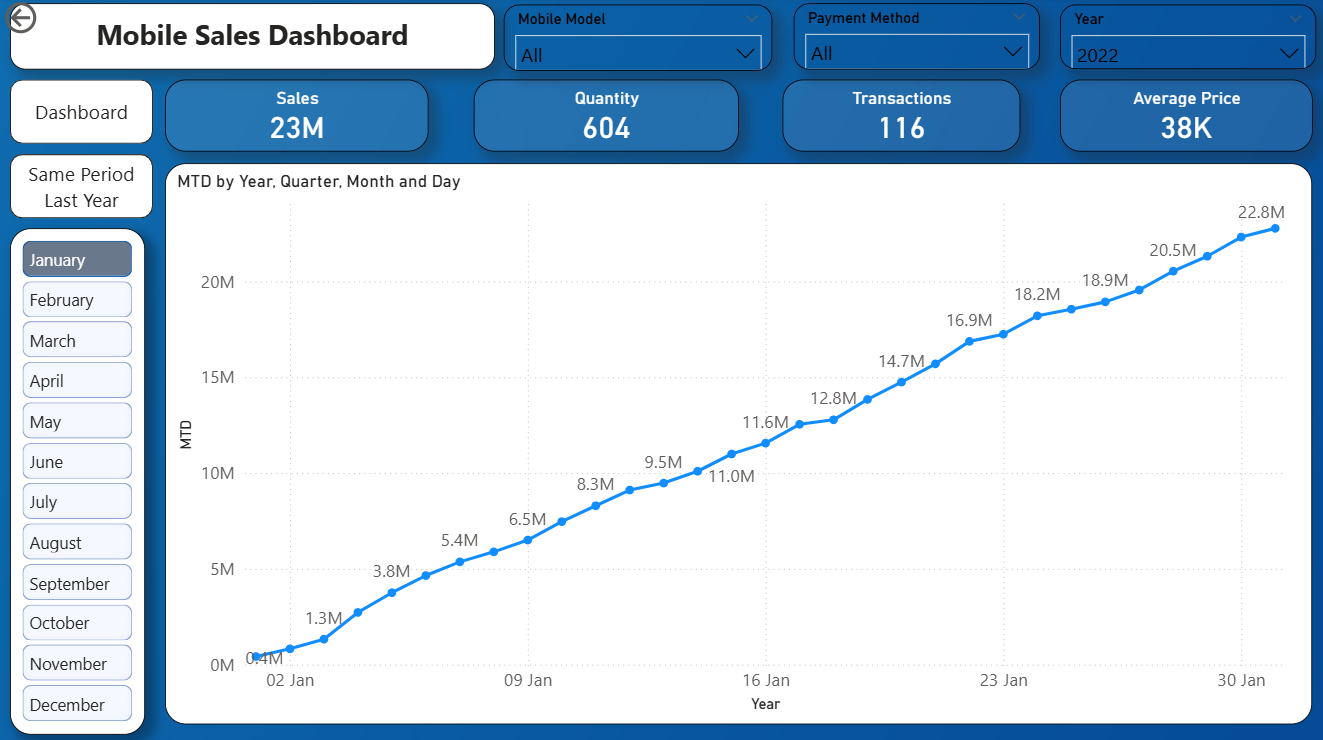

Layout of this report page (visuals, bound fields, positions):
{"tool":"powerbi","page":{"name":"MTD Report","canvas":[1280,720],"ordinal":1},"visuals":[{"type":"card","title":" Sales","fields":{"Values":["Sales_Data.Total_Sales"]},"box":[159.3,79.6,254.6,70],"z":0},{"type":"card","title":"Quantity","fields":{"Values":["Sales_Data.Total_Quantity"]},"box":[457.2,79.6,255.8,70],"z":1000},{"type":"card","title":"Transactions","fields":{"Values":["Sales_Data.Transactions"]},"box":[755.2,79.6,229.2,70],"z":2000},{"type":"card","title":"Average Price","fields":{"Values":["Sales_Data.Average_Price"]},"box":[1023.1,79.6,243.7,70],"z":3000},{"type":"slicer","fields":{"Values":["Sales_Data.Mobile Model"]},"box":[486.2,7.2,259.4,63.9],"z":4000},{"type":"slicer","fields":{"Values":["Sales_Data.Payment Method"]},"box":[766.1,6,237.7,63.9],"z":5000},{"type":"slicer","fields":{"Values":["Custom_Data.Date.Variation.Date Hierarchy.Year"]},"box":[1023.1,7.2,247.3,62.7],"z":6000},{"type":"textbox","box":[9.7,6,468.1,63.9],"z":7000},{"type":"actionButton","box":[0,0,100,40],"z":8000},{"type":"lineChart","fields":{"Category":["Custom_Data.Date.Variation.Date Hierarchy.Year","Custom_Data.Date.Variation.Date Hierarchy.Quarter","Custom_Data.Date.Variation.Date Hierarchy.Month","Custom_Data.Date.Variation.Date Hierarchy.Day"],"Y":["Sales_Data.MTD"]},"box":[159.3,160.5,1107.5,541.7],"z":9000},{"type":"advancedSlicerVisual","fields":{"Values":["Custom_Data.Date.Variation.Date Hierarchy.Month"]},"box":[9.7,223.2,130.3,488.6],"z":10000},{"type":"pageNavigator","box":[9.7,79.6,138.7,135.1],"z":11000}]}

Visuals, with their boxes in screenshot pixels (x1, y1, x2, y2), scaled from the page's 1280x720 canvas onto the 1323x740 screenshot:
" Sales" card: box=[165, 82, 428, 154]
"Quantity" card: box=[473, 82, 737, 154]
"Transactions" card: box=[781, 82, 1017, 154]
"Average Price" card: box=[1057, 82, 1309, 154]
slicer - Sales_Data.Mobile Model: box=[503, 7, 771, 73]
slicer - Sales_Data.Payment Method: box=[792, 6, 1038, 72]
slicer - Custom_Data.Date.Variation.Date Hierarchy.Year: box=[1057, 7, 1313, 72]
textbox: box=[10, 6, 494, 72]
actionButton: box=[0, 0, 103, 41]
lineChart - Custom_Data.Date.Variation.Date Hierarchy.Year x Custom_Data.Date.Variation.Date Hierarchy.Quarter: box=[165, 165, 1309, 722]
advancedSlicerVisual - Custom_Data.Date.Variation.Date Hierarchy.Month: box=[10, 229, 145, 732]
pageNavigator: box=[10, 82, 153, 221]
